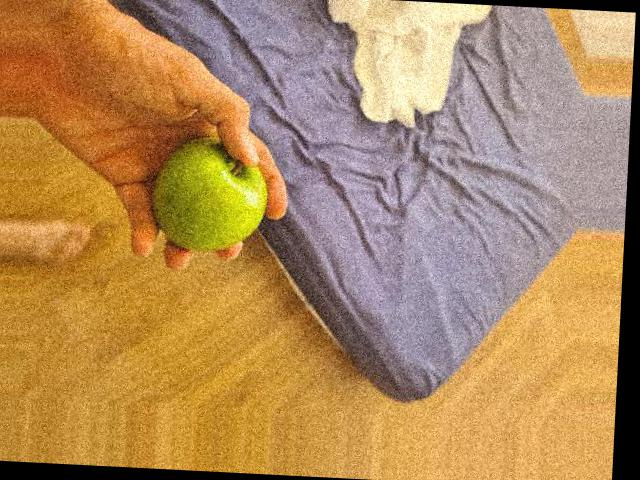apple: (146, 141, 267, 254)
